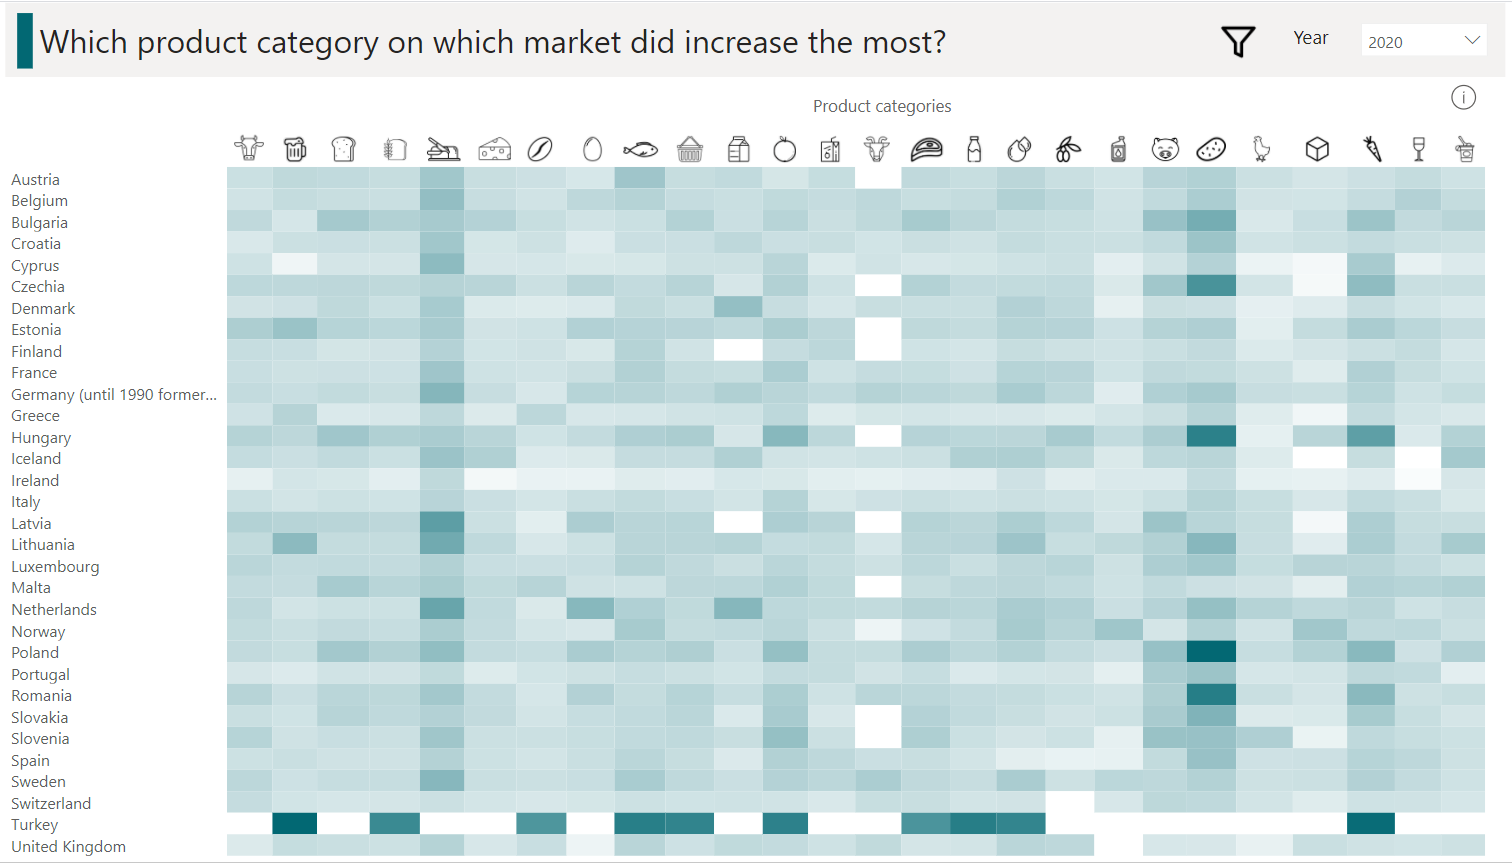

The page's visual inventory and layout, read from the dashboard file:
{"tool":"powerbi","page":{"name":"Heatmap - B","canvas":[1280,720],"ordinal":2},"visuals":[{"type":"basicShape","box":[0,0,1280,63.6],"z":0},{"type":"pivotTable","fields":{"Rows":["FPM Analysis Fact 2015 2020.Geo location"],"Columns":["FPM Analysis Fact 2015 2020.Product category (COICOP)"],"Values":["Avg(FPM Analysis Fact 2015 2020.Value)"]},"box":[8,106.5,1255.1,613.1],"z":1000},{"type":"textbox","box":[36.1,8.9,896.9,47.1],"z":2000},{"type":"basicShape","box":[22.8,8.9,13.3,47.1],"z":3000},{"type":"actionButton","box":[1227.2,68.7,35.8,30.9],"z":4000},{"type":"slicer","title":"Year","fields":{"Values":["FPM Analysis Fact 2015 2020.Date hierarchy.Year"]},"box":[1136.6,7.7,125.9,50.4],"z":5000},{"type":"textbox","box":[1085.1,13.1,61.3,39.4],"z":6000},{"type":"image","box":[1021.6,12,46,41.6],"z":7000},{"type":"textbox","box":[595.2,76.6,300.6,29.9],"z":8000}]}

Visuals, with their boxes in screenshot pixels (x1, y1, x2, y2), scaled from the page's 1280x720 canvas onto the 1512x863 screenshot:
basicShape: pyautogui.locateOnScreen(0, 0, 1511, 76)
pivotTable - FPM Analysis Fact 2015 2020.Geo location x FPM Analysis Fact 2015 2020.Product category (COICOP): pyautogui.locateOnScreen(9, 128, 1492, 862)
textbox: pyautogui.locateOnScreen(43, 11, 1102, 67)
basicShape: pyautogui.locateOnScreen(27, 11, 43, 67)
actionButton: pyautogui.locateOnScreen(1450, 82, 1492, 119)
"Year" slicer: pyautogui.locateOnScreen(1343, 9, 1491, 70)
textbox: pyautogui.locateOnScreen(1282, 16, 1354, 63)
image: pyautogui.locateOnScreen(1207, 14, 1261, 64)
textbox: pyautogui.locateOnScreen(703, 92, 1058, 128)
